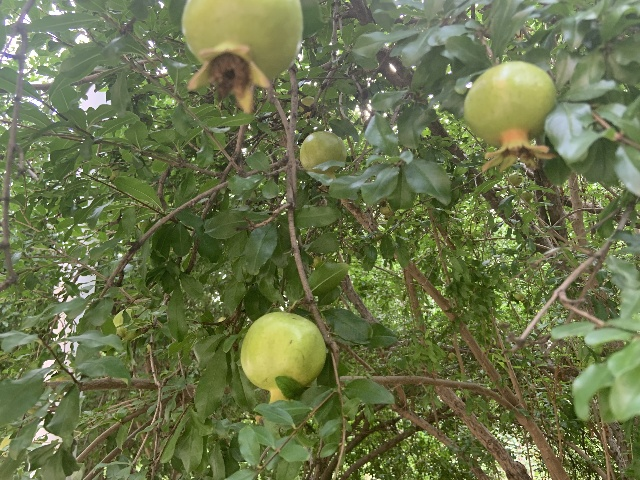mid-growth: (180, 0, 302, 114), (463, 60, 558, 175), (240, 311, 326, 403), (299, 130, 346, 191), (113, 308, 142, 339), (299, 96, 315, 121)
